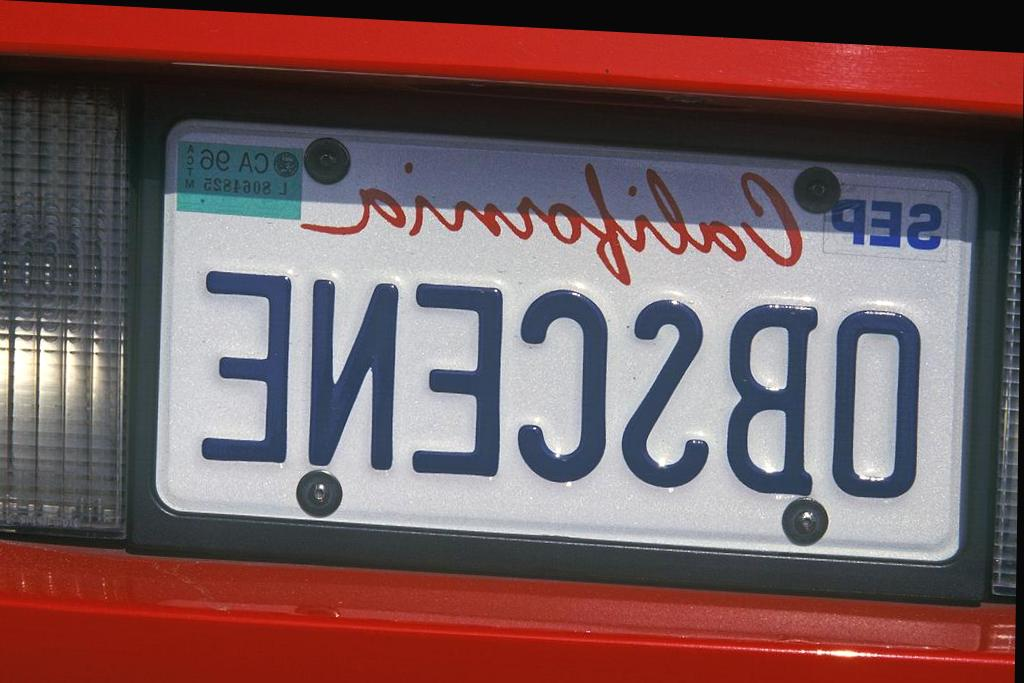License_Plate: (159, 132, 980, 547)
